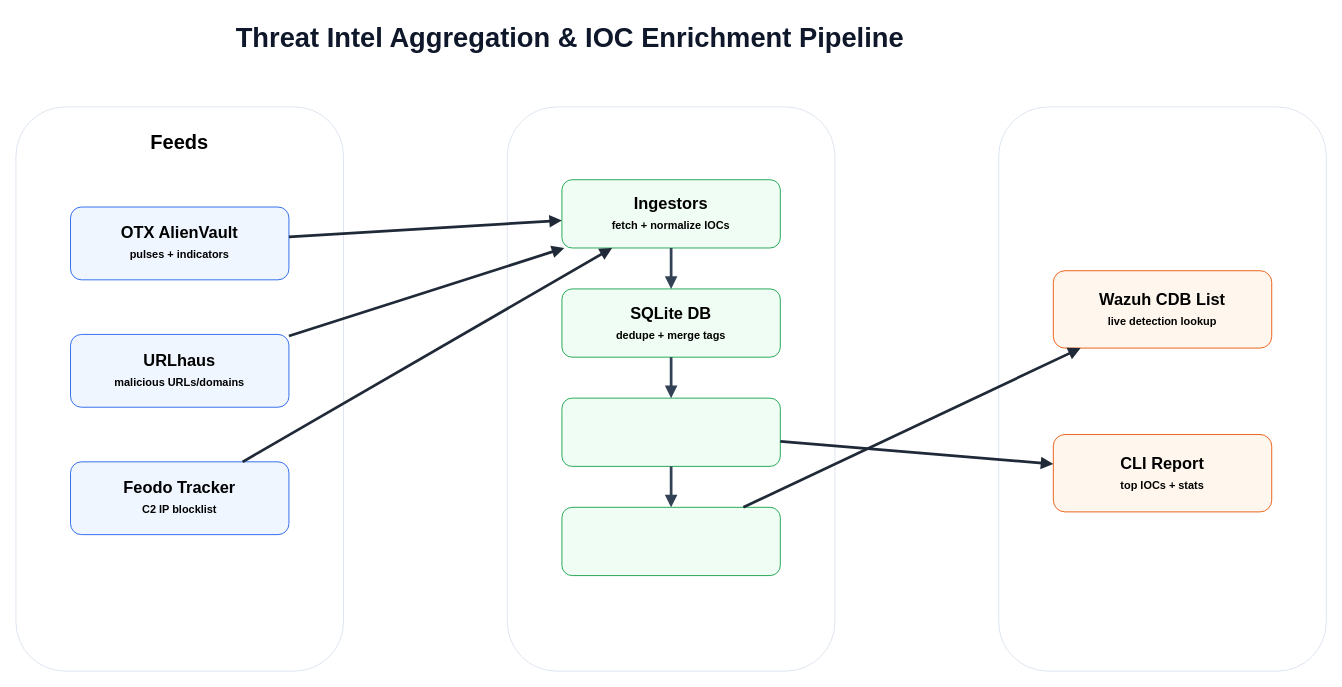
Image size: 1342x687. Some labels were removed from this diagram. The shapes that lost their labels are listed below. From the top down, each one's box as (x1, y1, x2, y2) in pixels, then its label:
(506, 106, 835, 671): Processing
(998, 106, 1326, 671): Output
(561, 397, 780, 466): Scorer recency + reputation
(561, 506, 780, 576): Enricher AbuseIPDB + VirusTotal
